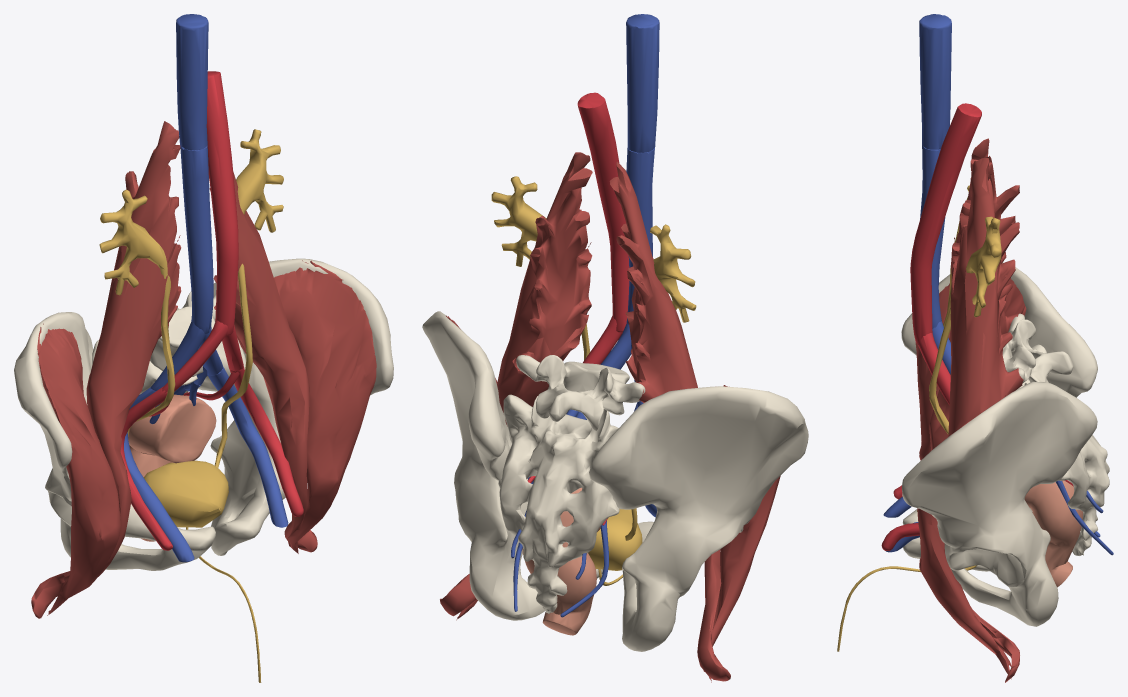
The model's file is pelvis.glb.
The picture shows the model from 3 angles, left to right: view 1: azimuth 30°, elevation 25°; view 2: azimuth 150°, elevation 25°; view 3: azimuth 270°, elevation 25°; orthographic projection. The views are drawn at different scales.
Parts seen in each view (by area): view 1: правая большая поясничная мышца, левая подвздошная мышца, правая подвздошная мышца, левая большая поясничная мышца, правая тазовая кость, нижняя полая вена (×2), левая тазовая кость, брюшная аорта, прямая кишка, мочевой пузырь, правый мочеточник, левый мочеточник (+9 smaller); view 2: правая тазовая кость, крестец, левая тазовая кость, левая большая поясничная мышца, правая большая поясничная мышца, нижняя полая вена (×2), L5, брюшная аорта, правая подвздошная мышца, прямая кишка, левый мочеточник, правый мочеточник (+4 smaller); view 3: левая тазовая кость, левая большая поясничная мышца, брюшная аорта, нижняя полая вена (×2), правая тазовая кость, левая подвздошная мышца, прямая кишка, крестец, правая большая поясничная мышца, левый мочеточник, L5, правая подвздошная мышца (+4 smaller).
Part boxes in pixels (<box>): правая большая поясничная мышца: <box>31,121,181,618</box>; левая подвздошная мышца: <box>274,260,376,553</box>; правая подвздошная мышца: <box>37,323,120,615</box>; левая большая поясничная мышца: <box>209,172,317,552</box>; правая тазовая кость: <box>14,312,215,570</box>; нижняя полая вена (×2): <box>176,14,213,333</box>; левая тазовая кость: <box>210,258,393,555</box>; брюшная аорта: <box>206,71,238,335</box>; прямая кишка: <box>128,394,216,541</box>; мочевой пузырь: <box>143,460,228,527</box>; правый мочеточник: <box>99,189,175,436</box>; левый мочеточник: <box>214,129,283,467</box>; правая тазовая кость: <box>589,386,808,651</box>; крестец: <box>498,394,619,613</box>; левая тазовая кость: <box>422,311,602,620</box>; левая большая поясничная мышца: <box>440,152,592,616</box>; правая большая поясничная мышца: <box>609,161,730,681</box>; нижняя полая вена (×2): <box>626,14,659,324</box>; L5: <box>516,355,645,430</box>; брюшная аорта: <box>577,92,629,332</box>; правая подвздошная мышца: <box>703,385,780,682</box>; прямая кишка: <box>522,488,608,635</box>; левый мочеточник: <box>491,176,590,481</box>; правый мочеточник: <box>625,224,696,540</box>; левая тазовая кость: <box>902,381,1097,626</box>; левая большая поясничная мышца: <box>948,158,1023,682</box>; брюшная аорта: <box>910,103,981,345</box>; нижняя полая вена (×2): <box>919,14,951,328</box>; правая тазовая кость: <box>901,262,1097,571</box>; левая подвздошная мышца: <box>917,392,1011,679</box>; прямая кишка: <box>1024,480,1083,587</box>; крестец: <box>1017,344,1109,555</box>; правая большая поясничная мышца: <box>929,138,1019,450</box>; левый мочеточник: <box>929,216,1001,434</box>; L5: <box>1002,313,1073,382</box>; правая подвздошная мышца: <box>915,278,1026,460</box>.
Size of the model in its own units: 0.2896 by 0.4819 by 0.1942.
